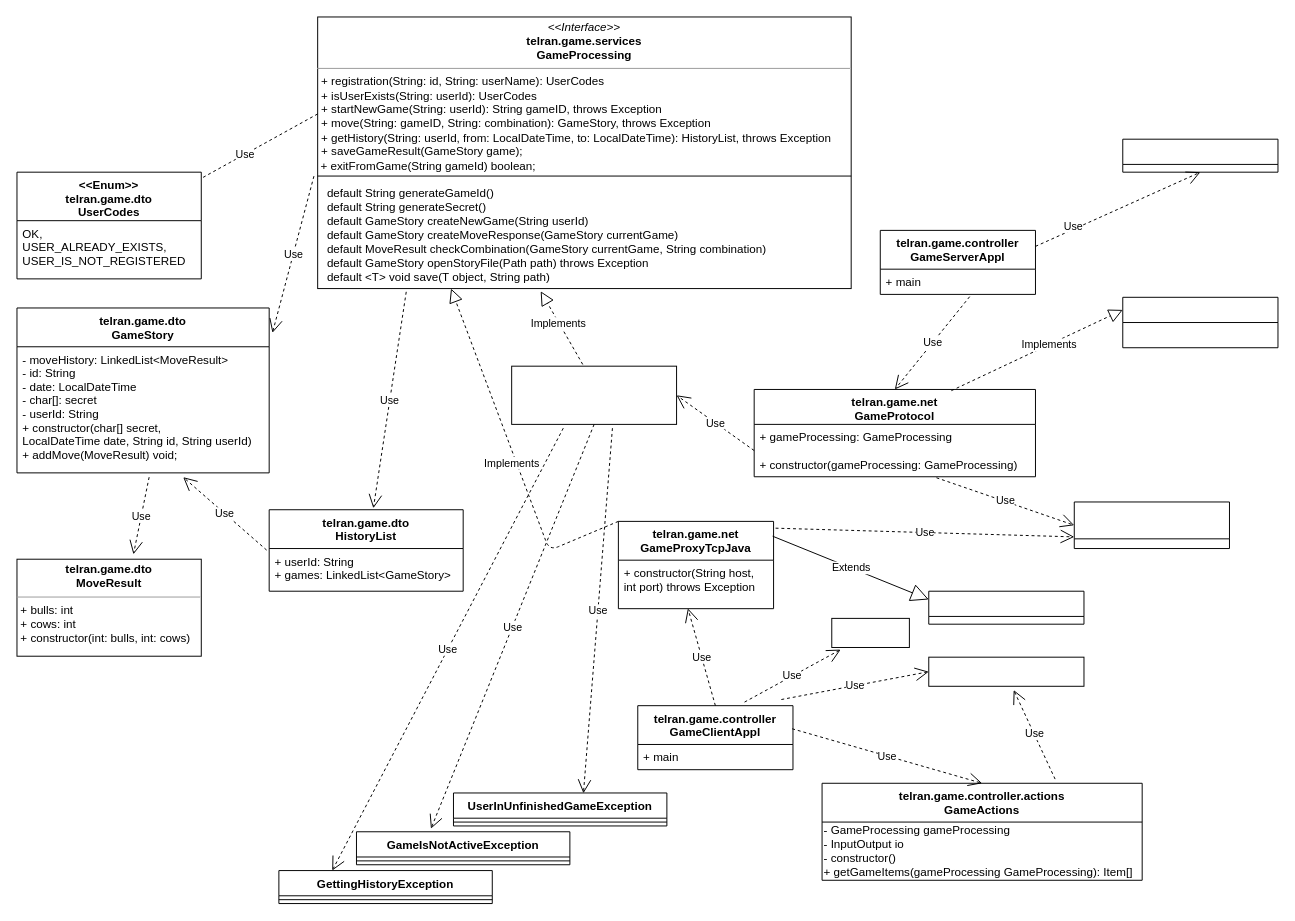
Some shapes in this 1295 by 921 pixel diagram are drawn without their labels. The shapes that lost their labels are listed below. From the top down, each one's centre as x and y in pixels, then its label:
At (x=1200, y=155): "TcpServerJava".
At (x=1200, y=322): "ApplProtocolJava".
At (x=594, y=394): "telran.game.services GameProcessingImpl".
At (x=1151, y=525): "telran.game.api RequestTypesApi".
At (x=1006, y=607): "TcpJavaClient".
At (x=870, y=632): "Menu".
At (x=1006, y=671): "InputOuput".
